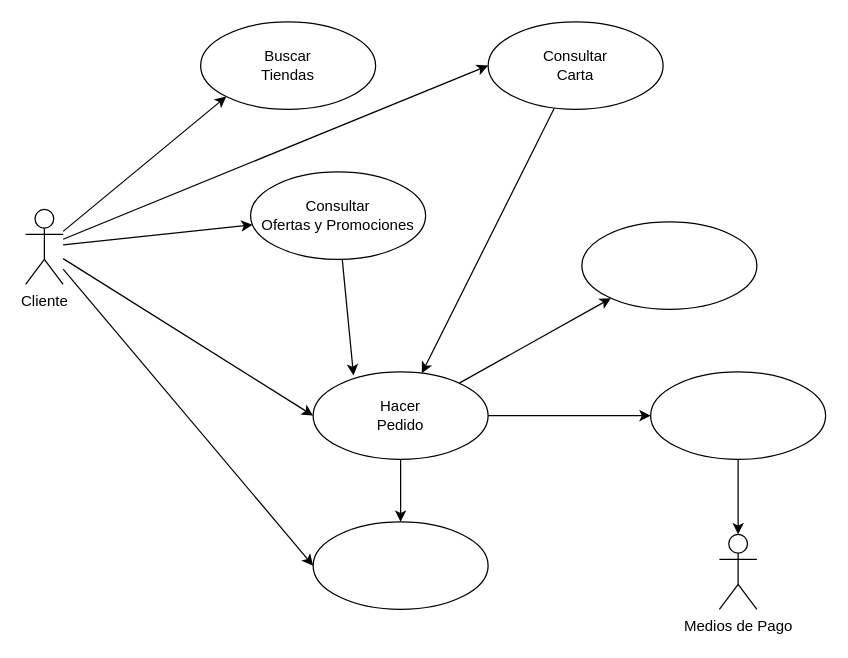
This 848x658 diagram has some shape labels left out. The box of each missing label's shape, as (x1, y1, x2, y2) in pixels:
Crear Producto: (581, 221, 757, 309)
Pago electronico: (649, 371, 826, 459)
Seguir Pedido: (312, 521, 488, 609)
